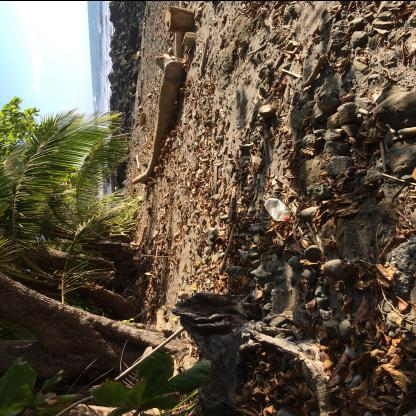plastik: (264, 197, 290, 221)
